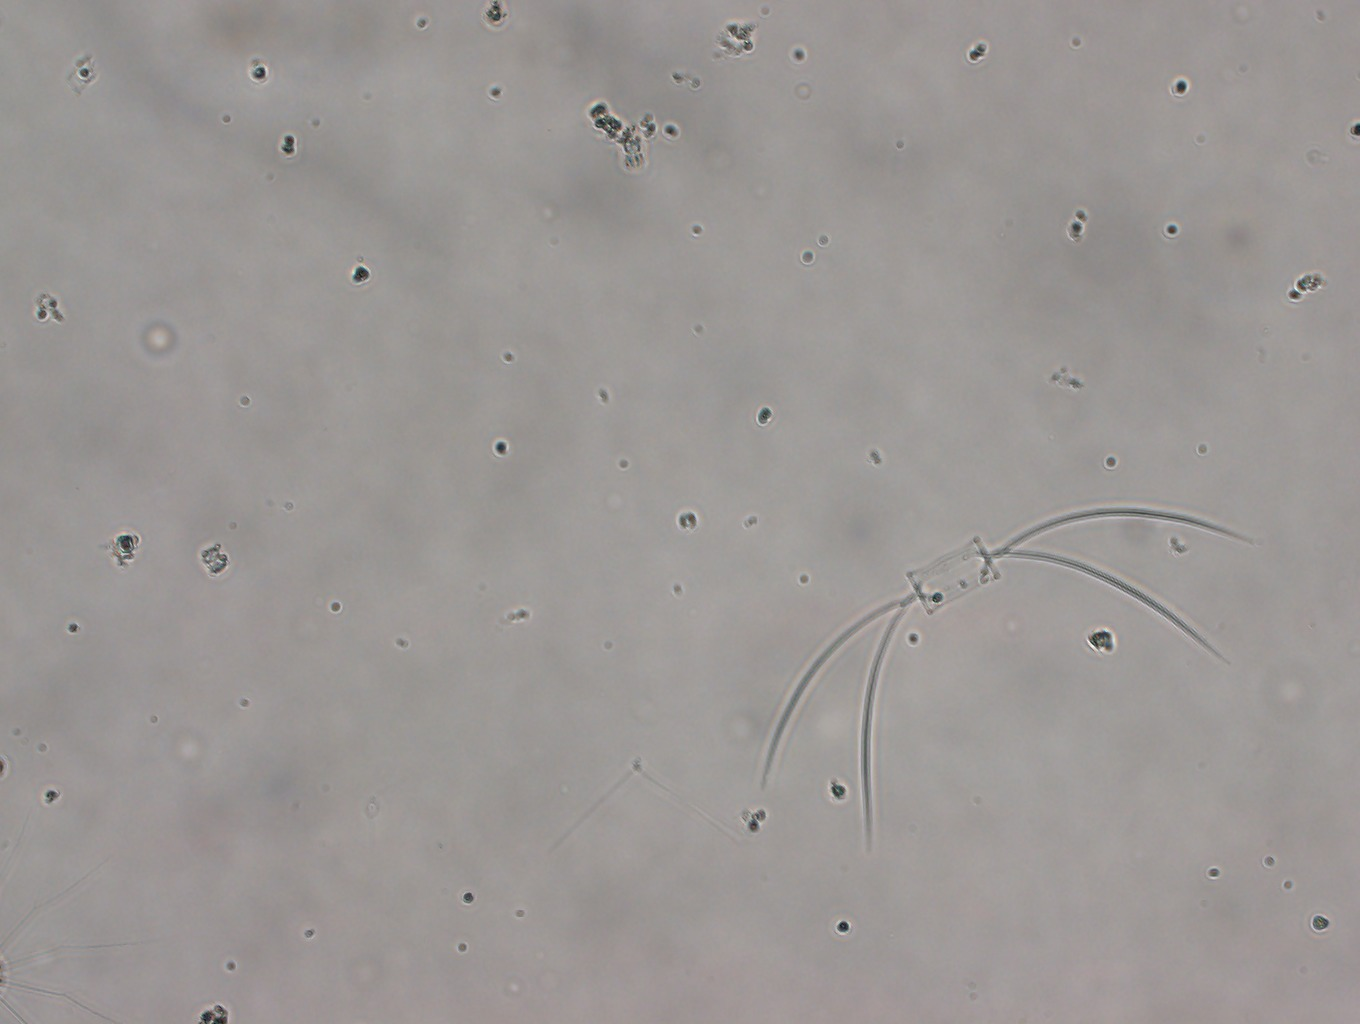chaetoceros: (746, 487, 1260, 856)
